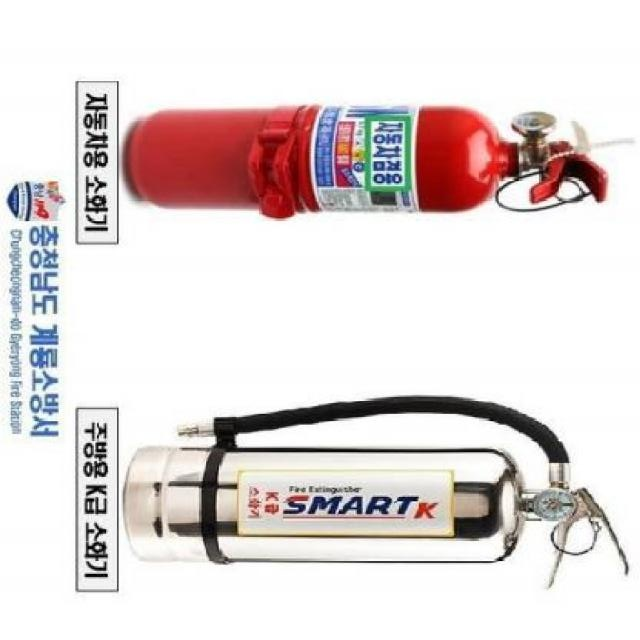fire extinguisher: (122, 394, 630, 589), (128, 104, 634, 219)
